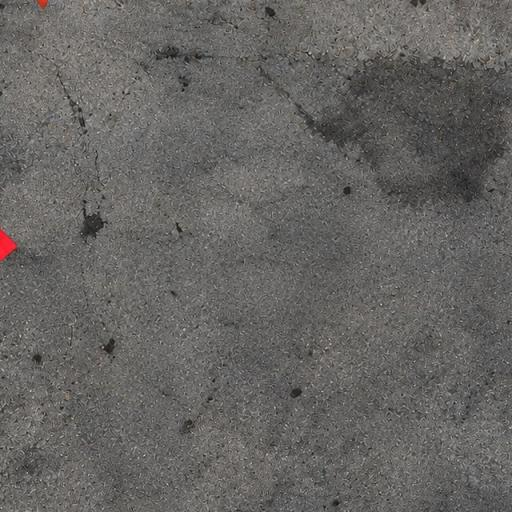RED_SQUARE: (0, 217, 18, 271)
